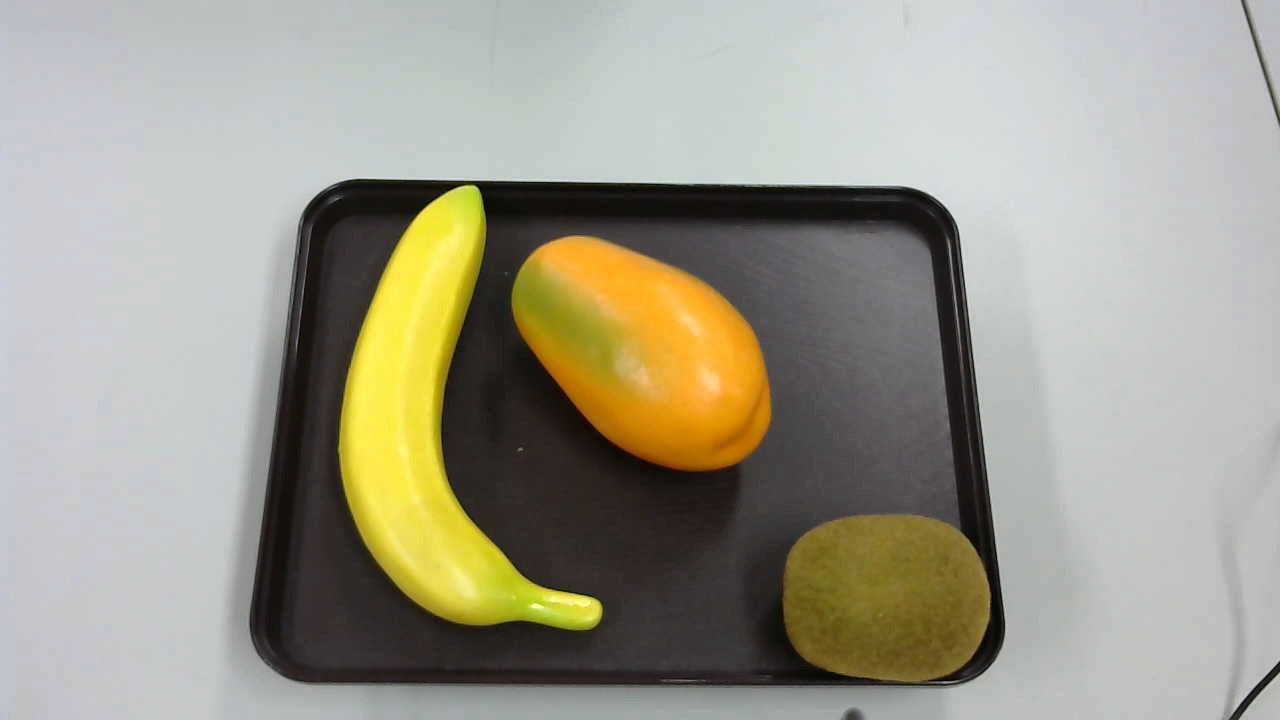banana: (341, 178, 609, 638)
kiwi fruit: (781, 512, 991, 685)
papya: (502, 231, 776, 484)
